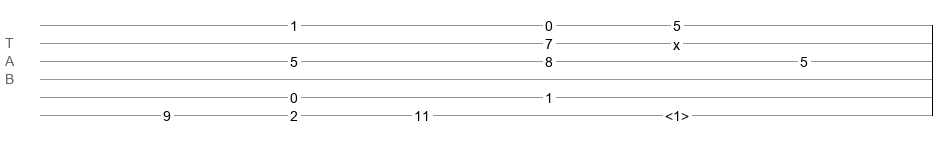0: (290, 90, 298, 100), (545, 18, 553, 28)
1: (290, 18, 298, 28), (545, 90, 553, 100)
11: (414, 108, 430, 118)
2: (290, 108, 298, 118)
5: (290, 54, 298, 64), (673, 18, 681, 28), (800, 54, 808, 64)
7: (545, 36, 553, 46)
8: (545, 54, 553, 64)
9: (163, 108, 171, 118)
harmonic: (665, 108, 689, 118)
x: (673, 37, 680, 45)
